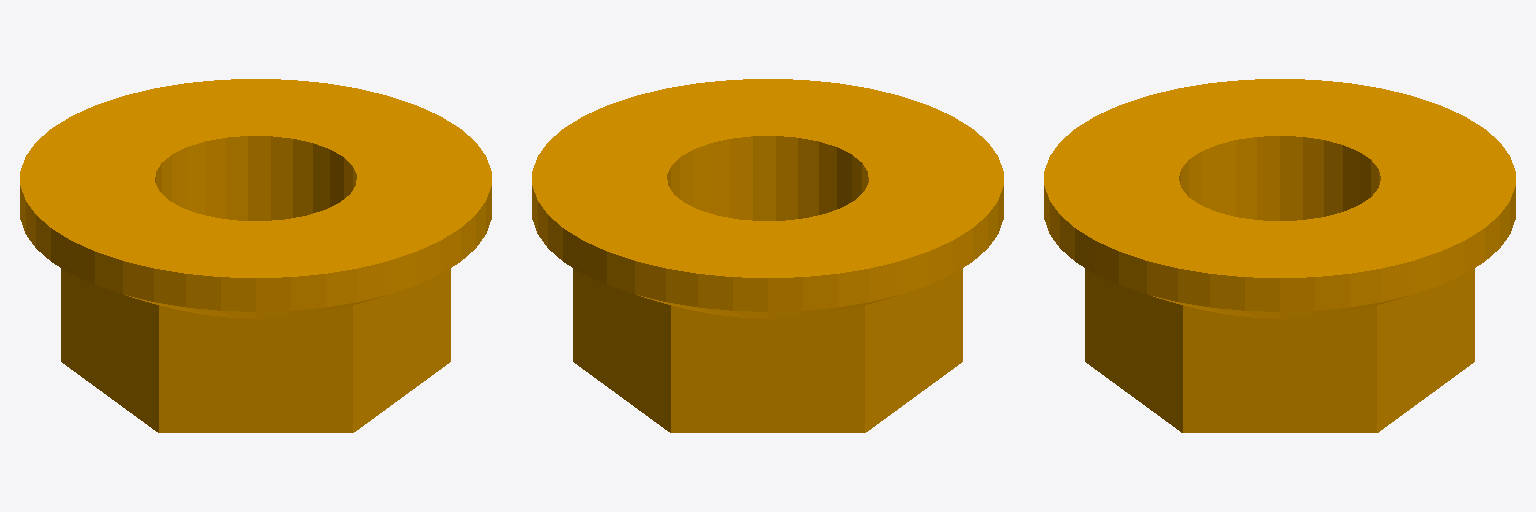
robot.urdf — T-NUT-M6:
<?xml version="1.0"?>
<robot name="T-NUT-M6">
  <link name="T-NUT-M6">
    <visual>
      <origin xyz="0.0 0.0 0.0"/>
      <geometry>
        <mesh filename="../mesh/factory_nut_bolt/T-NUT-M6.obj" scale="0.005 0.005 0.005"/>
      </geometry>
    </visual>
    <collision>
      <origin xyz="0.0 0.0 0.0"/>
      <geometry>
        <mesh filename="../mesh/factory_nut_bolt/T-NUT-M6.obj" scale="0.005 0.005 0.005"/>
      </geometry>
      <sdf resolution="256"/>
    </collision>
  </link>
</robot>

--- Facts derived from the render (not from the file) ---
3 views of the same robot in one strip: view 1: azimuth 30°, elevation 25°; view 2: azimuth 150°, elevation 25°; view 3: azimuth 270°, elevation 25° (orthographic).
Model T-NUT-M6 with 1 links and 0 joints (none), rooted at T-NUT-M6, posed all joints at 0.
Links seen in each view (by area): view 1: T-NUT-M6; view 2: T-NUT-M6; view 3: T-NUT-M6.
Boxes of the visible links, box(x1,y1,x2,y2) form: T-NUT-M6: box(20, 79, 491, 432); T-NUT-M6: box(532, 79, 1003, 432); T-NUT-M6: box(1044, 79, 1515, 432).
Size in the robot's own frame: 0.07 by 0.0698 by 0.03 metres.
Meshes: 1 distinct files referenced, 1 mesh visuals loaded (1 OBJ).